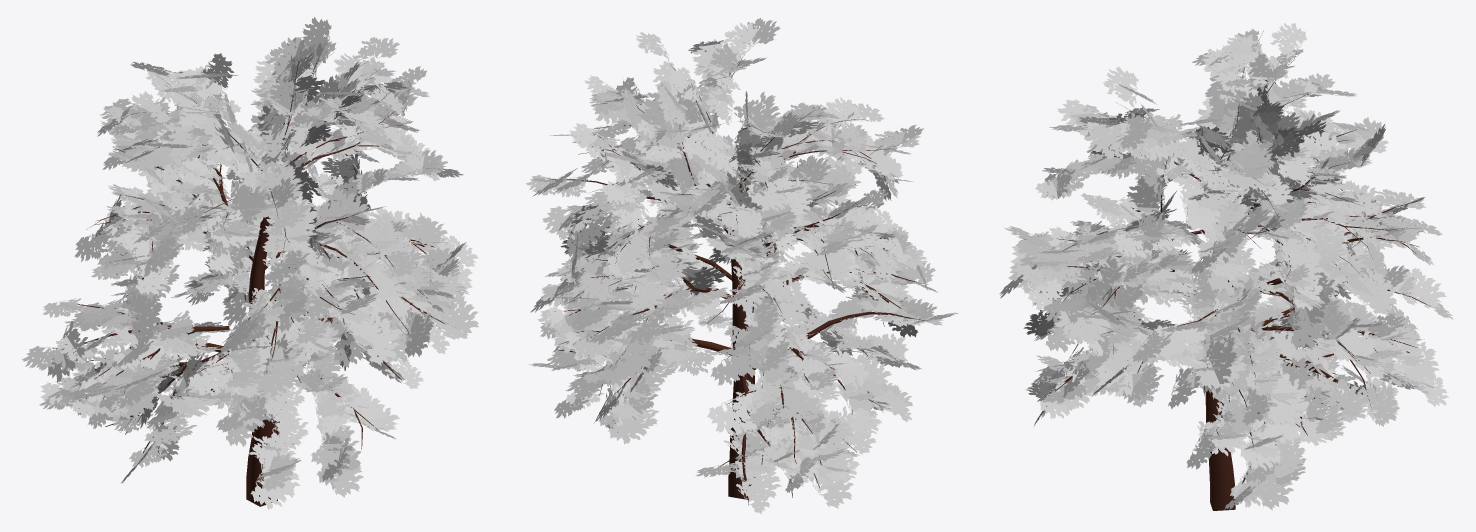
The model's file is Tree_1.fbx.
The picture shows the model from 3 angles, left to right: view 1: azimuth 30°, elevation 25°; view 2: azimuth 150°, elevation 25°; view 3: azimuth 270°, elevation 25°; orthographic projection. The views are drawn at different scales.
Parts seen in each view (by area): view 1: Tree1; view 2: Tree1; view 3: Tree1.
Boxes of the visible parts, x1,y1,x2,y2 form: Tree1: (22, 17, 478, 509); Tree1: (526, 18, 958, 513); Tree1: (999, 23, 1453, 510).
Size of the model in its own units: 2024 by 2204 by 2055.
